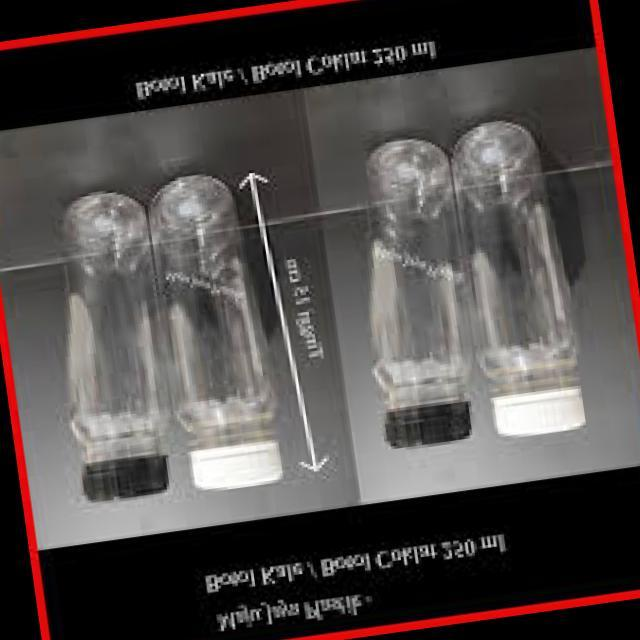good: (328, 126, 494, 466), (142, 162, 302, 494), (38, 176, 183, 532), (448, 102, 595, 445)
